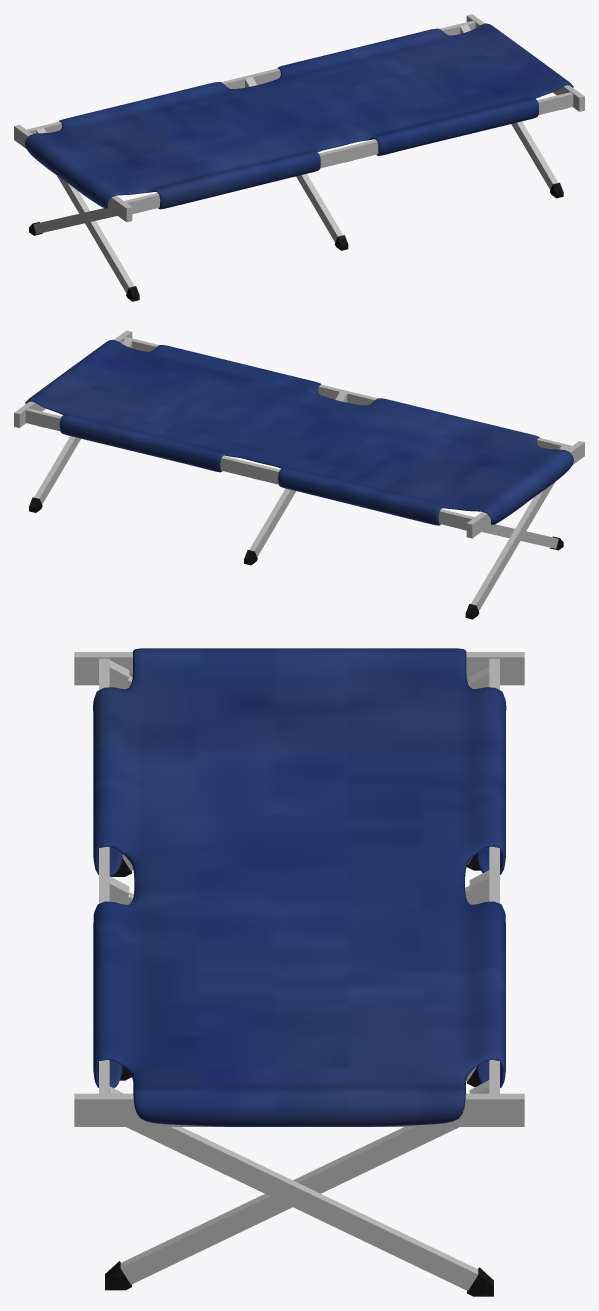
The model's file is Bed39.glb.
The picture shows the model from 3 angles, top to bottom: view 1: azimuth 30°, elevation 25°; view 2: azimuth 150°, elevation 25°; view 3: azimuth 270°, elevation 25°; orthographic projection. The views are drawn at different scales.
Parts seen in each view (by area): view 1: BedFrame39; view 2: BedFrame39; view 3: BedFrame39.
Boxes of the visible parts, x1,y1,x2,y2 form: BedFrame39: (14, 14, 584, 301); BedFrame39: (14, 330, 584, 619); BedFrame39: (74, 648, 524, 1296).
Size of the model in its own units: 6.25 by 1.34 by 2.6.
Materials: 1 (1 with a texture image).
